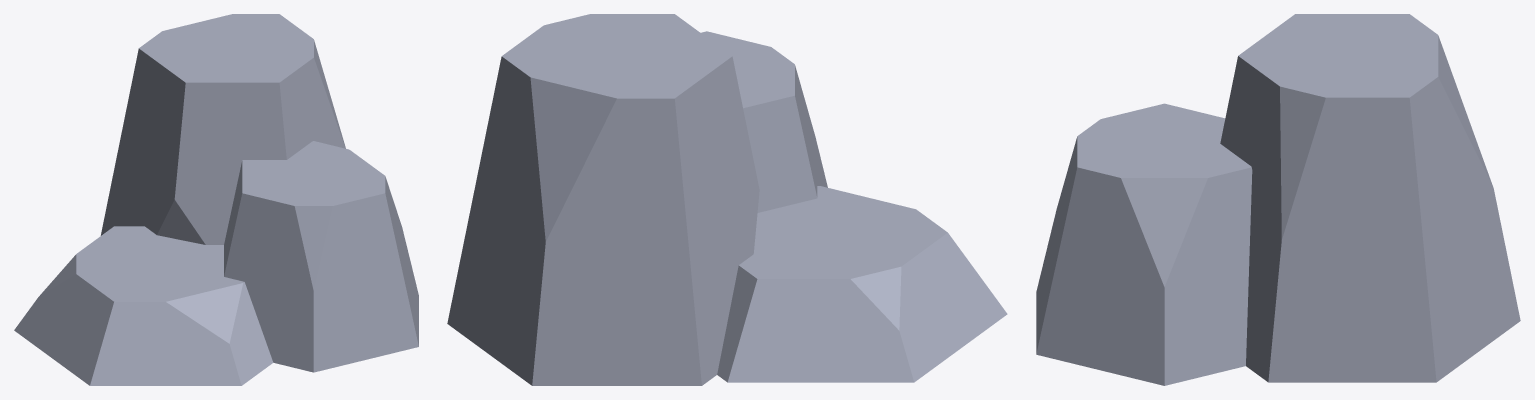
The model's file is rocks.fbx.
3 views of the same model, side by side, from view 1: azimuth 30°, elevation 25°; view 2: azimuth 150°, elevation 25°; view 3: azimuth 270°, elevation 25° (orthographic). The views are drawn at different scales.
Parts seen in each view (by area): view 1: rocks; view 2: rocks; view 3: rocks.
Part boxes in pixels (x1,y1,x2,y2): rocks: (14,14,418,385); rocks: (447,14,1007,385); rocks: (1036,14,1520,385).
Bounding box in the file's own units: 6.53 × 4 × 6.62.
